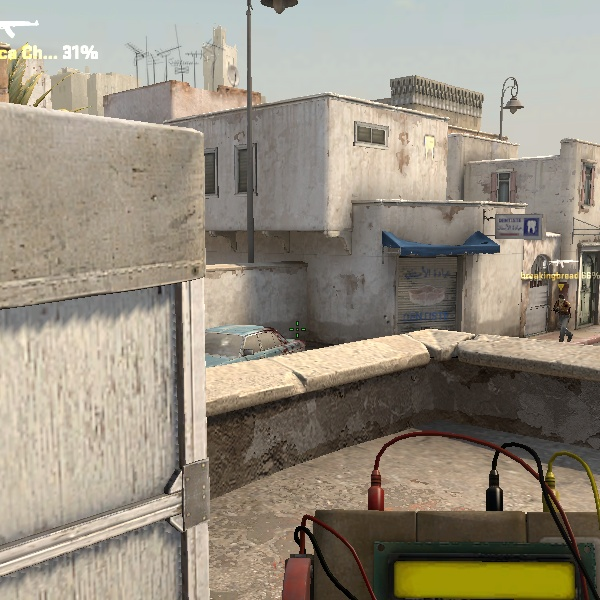t_body: (553, 293, 573, 342)
t_head: (558, 294, 565, 304)
